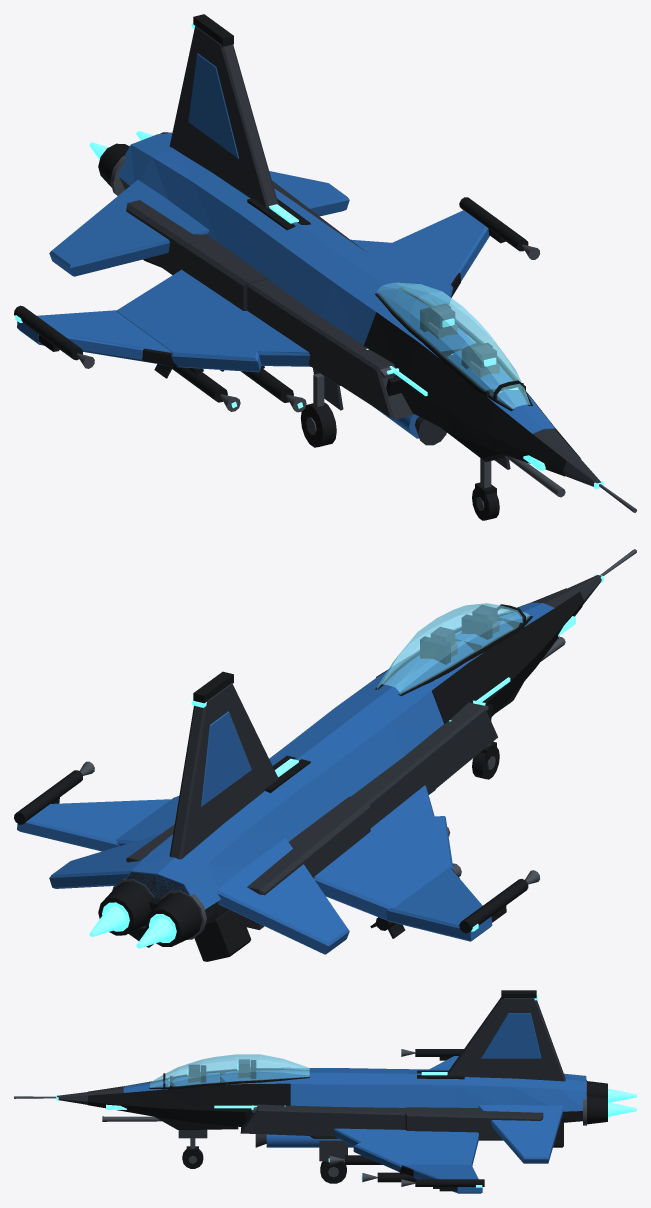
The model's file is shrike-attack-jet.glb.
3 views of the same model, one above another, from view 1: azimuth 30°, elevation 25°; view 2: azimuth 150°, elevation 25°; view 3: azimuth 270°, elevation 25° (orthographic). The views are drawn at different scales.
Parts seen in each view (by area): view 1: centre_pod, pilot_helmet, dorsal_deck, chine_r, pilot_seat, canopy_glass, pitot_boom, nose_gear_wheel, radome_lens, hull; view 2: centre_pod, dorsal_deck, pilot_helmet, pilot_seat, chine_r, canopy_glass, radome_lens, hull, pitot_boom; view 3: pilot_helmet, centre_pod, dorsal_deck, chine_r, pilot_seat, canopy_glass, pitot_boom, radome_lens, hull, nose_gear_wheel.
Boxes of the visible parts, x1,y1,x2,y2 form: centre_pod: (17, 53, 489, 438); pilot_helmet: (126, 26, 510, 469); dorsal_deck: (117, 132, 554, 433); chine_r: (363, 288, 580, 476); pilot_seat: (14, 14, 528, 502); canopy_glass: (377, 282, 530, 409); pitot_boom: (76, 156, 636, 512); nose_gear_wheel: (300, 402, 499, 520); radome_lens: (15, 23, 603, 489); hull: (119, 177, 600, 486); centre_pod: (17, 711, 492, 954); dorsal_deck: (124, 602, 554, 909); pilot_helmet: (126, 605, 497, 929); pilot_seat: (14, 614, 528, 961); chine_r: (375, 588, 584, 723); canopy_glass: (377, 603, 530, 694); radome_lens: (89, 574, 603, 948); hull: (126, 575, 601, 922); pitot_boom: (79, 549, 636, 939); pilot_helmet: (178, 997, 565, 1161); centre_pod: (266, 1013, 563, 1193); dorsal_deck: (123, 1068, 586, 1111); chine_r: (88, 1067, 309, 1126); pilot_seat: (154, 990, 607, 1191); canopy_glass: (150, 1054, 309, 1087); pitot_boom: (14, 1049, 586, 1186); radome_lens: (56, 995, 636, 1187); hull: (57, 1087, 582, 1122); nose_gear_wheel: (182, 1149, 346, 1183).
Bounding box in the file's own units: 6.65 × 4.05 × 13.06.
